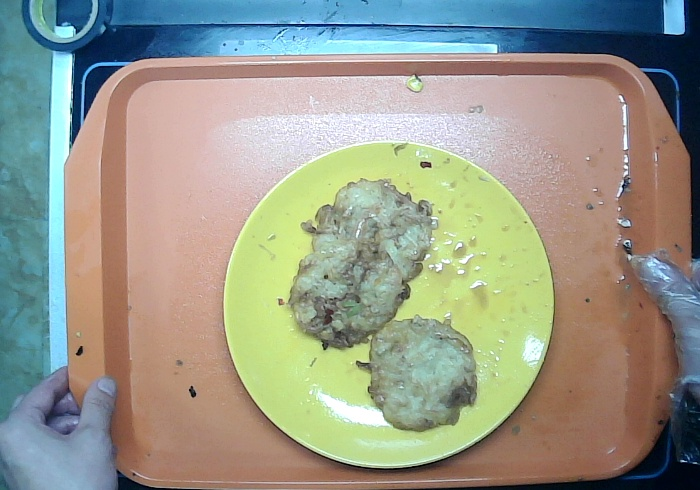HZYJPL-Huang_Se_Yuan_Pan: (200, 120, 568, 479)
